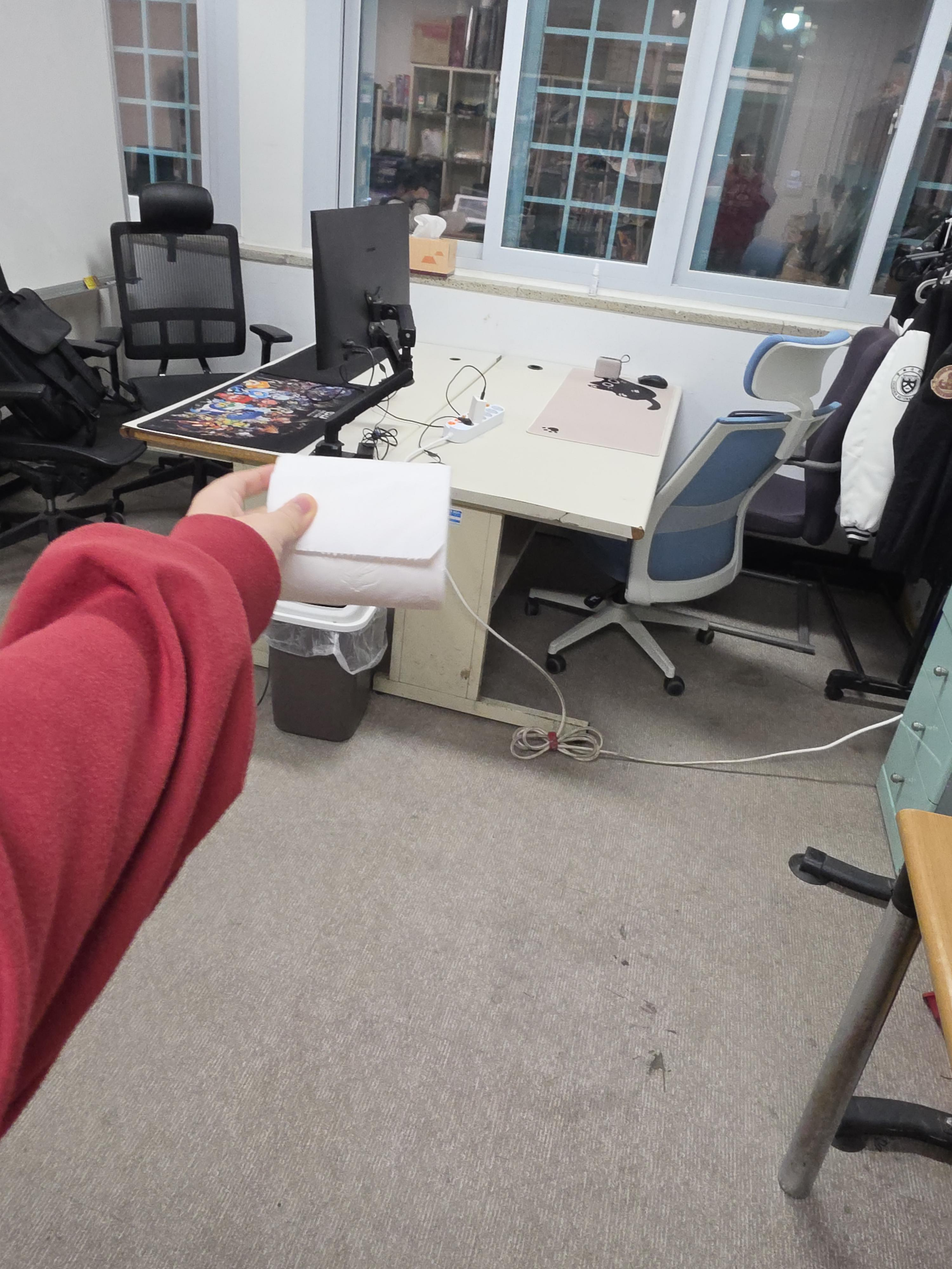tissue: (265, 455, 451, 609), (409, 214, 458, 276)
